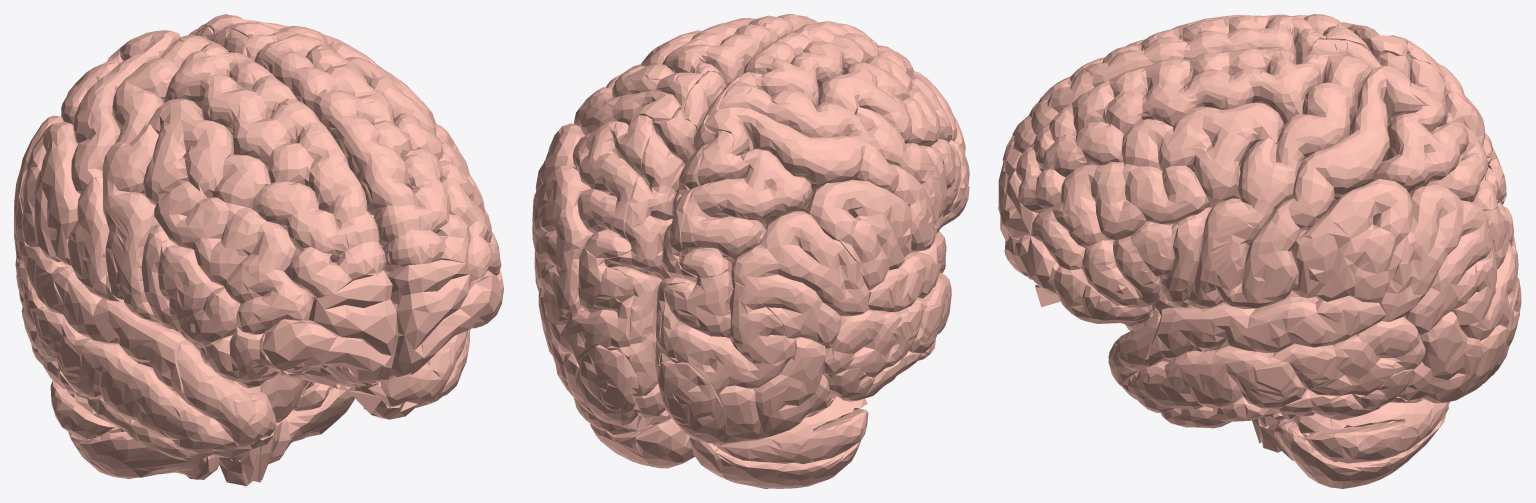
File: Allen_F_Brain_0.2.glb
3 views of the same model, side by side, from view 1: azimuth 30°, elevation 25°; view 2: azimuth 150°, elevation 25°; view 3: azimuth 270°, elevation 25° (orthographic). The views are drawn at different scales.
Parts seen in each view (by area): view 1: Allen_superior_frontal_gyrus_L, Allen_middle_frontal_gyrus_L, Allen_superior_frontal_gyrus_R, Allen_middle_temporal_gyrus_L, Allen_precentral_gyrus_L, Allen_postcentral_gyrus_L, Allen_superior_temporal_gyrus_L, Allen_middle_frontal_gyrus_R, Allen_supramarginal_gyrus_L, Allen_rostral_gyrus_R, Allen_lateral_hemisphere_of_cerebellum_L, Allen_inferior_frontal_gyrus_triangular_part_L (+19 smaller); view 2: Allen_angular_gyrus_L, Allen_supraparietal_lobule_L, Allen_superior_occipital_gyrus_L, Allen_postcentral_gyrus_L, Allen_lateral_hemisphere_of_cerebellum_L, Allen_superior_occipital_gyrus_R, Allen_precentral_gyrus_L, Allen_supraparietal_lobule_R, Allen_supramarginal_gyrus_L, Allen_middle_frontal_gyrus_L, Allen_superior_frontal_gyrus_L, Allen_middle_temporal_gyrus_L (+24 smaller); view 3: Allen_middle_frontal_gyrus_R, Allen_superior_frontal_gyrus_R, Allen_middle_temporal_gyrus_R, Allen_precentral_gyrus_R, Allen_postcentral_gyrus_R, Allen_supramarginal_gyrus_R, Allen_angular_gyrus_R, Allen_superior_temporal_gyrus_R, Allen_lateral_hemisphere_of_cerebellum_R, Allen_superior_frontal_gyrus_L, Allen_supraparietal_lobule_R, Allen_inferior_frontal_gyrus_triangular_part_R (+16 smaller).
Part boxes in pixels (box(x1,y1,x2,y2)): Allen_superior_frontal_gyrus_L: box(164, 43, 386, 299); Allen_middle_frontal_gyrus_L: box(143, 98, 314, 334); Allen_superior_frontal_gyrus_R: box(246, 31, 470, 272); Allen_middle_temporal_gyrus_L: box(16, 260, 237, 453); Allen_precentral_gyrus_L: box(102, 34, 209, 323); Allen_postcentral_gyrus_L: box(67, 30, 180, 301); Allen_superior_temporal_gyrus_L: box(21, 244, 197, 404); Allen_middle_frontal_gyrus_R: box(346, 56, 501, 281); Allen_supramarginal_gyrus_L: box(20, 122, 80, 265); Allen_rostral_gyrus_R: box(387, 259, 470, 377); Allen_lateral_hemisphere_of_cerebellum_L: box(50, 380, 206, 478); Allen_inferior_frontal_gyrus_triangular_part_L: box(158, 239, 240, 349); Allen_angular_gyrus_L: box(731, 211, 869, 345); Allen_supraparietal_lobule_L: box(679, 130, 812, 278); Allen_superior_occipital_gyrus_L: box(659, 271, 796, 397); Allen_postcentral_gyrus_L: box(704, 106, 936, 252); Allen_lateral_hemisphere_of_cerebellum_L: box(714, 396, 868, 488); Allen_superior_occipital_gyrus_R: box(543, 247, 634, 366); Allen_precentral_gyrus_L: box(718, 81, 944, 232); Allen_supraparietal_lobule_R: box(572, 115, 652, 257); Allen_supramarginal_gyrus_L: box(805, 179, 911, 290); Allen_middle_frontal_gyrus_L: box(818, 55, 965, 153); Allen_superior_frontal_gyrus_L: box(737, 21, 923, 107); Allen_middle_temporal_gyrus_L: box(822, 272, 951, 377); Allen_middle_frontal_gyrus_R: box(1031, 102, 1284, 270); Allen_superior_frontal_gyrus_R: box(1016, 49, 1327, 213); Allen_middle_temporal_gyrus_R: box(1121, 316, 1425, 412); Allen_precentral_gyrus_R: box(1187, 55, 1371, 308); Allen_postcentral_gyrus_R: box(1224, 65, 1423, 309); Allen_supramarginal_gyrus_R: box(1290, 179, 1413, 302); Allen_angular_gyrus_R: box(1379, 184, 1488, 334); Allen_superior_temporal_gyrus_R: box(1148, 295, 1386, 366); Allen_lateral_hemisphere_of_cerebellum_R: box(1267, 398, 1448, 488); Allen_superior_frontal_gyrus_L: box(1012, 14, 1326, 153); Allen_supraparietal_lobule_R: box(1372, 82, 1497, 210); Allen_inferior_frontal_gyrus_triangular_part_R: box(1081, 221, 1177, 307).
Size of the model in its own units: 0.1364 by 0.1478 by 0.1669.
